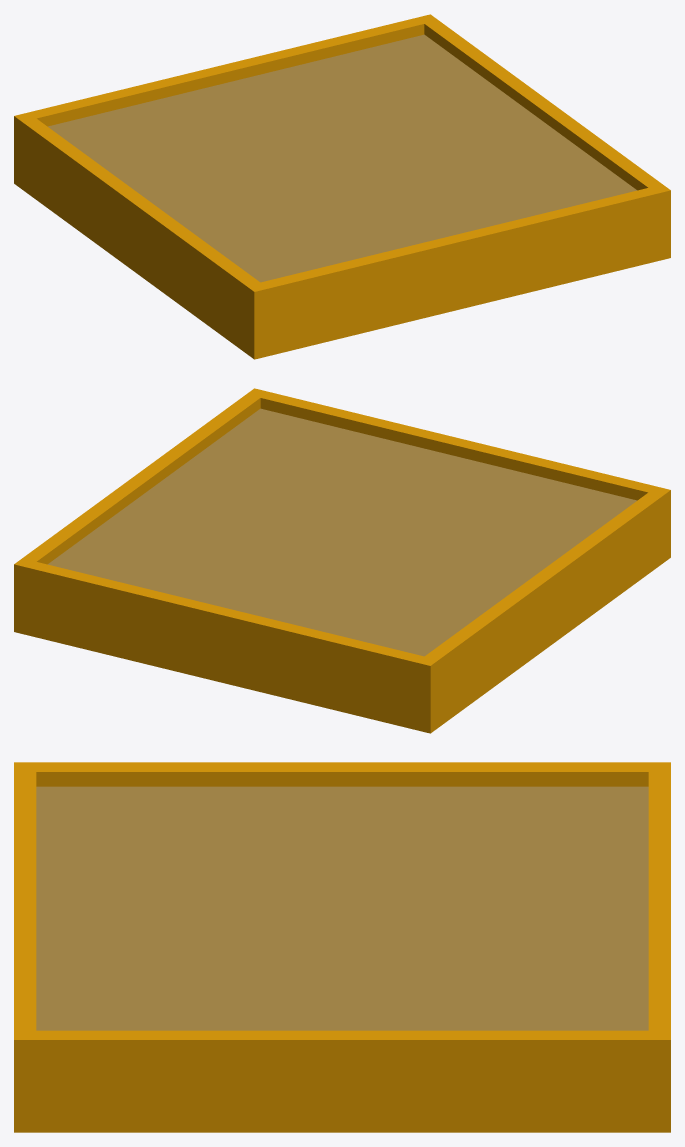
The model's file is Tree Pot.fbx.
3 renders of one model, top to bottom at view 1: azimuth 30°, elevation 25°; view 2: azimuth 150°, elevation 25°; view 3: azimuth 270°, elevation 25°, orthographic. The views are drawn at different scales.
Parts seen in each view (by area): view 1: Cube.001; view 2: Cube.001; view 3: Cube.001.
Boxes of the visible parts, left/top/right/bottom form: Cube.001: left=14, top=14, right=670, bottom=359; Cube.001: left=14, top=388, right=670, bottom=733; Cube.001: left=14, top=762, right=670, bottom=1132.
Bounding box in the file's own units: 200 × 31.04 × 200.
